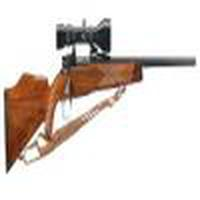gun: (3, 21, 191, 168)
